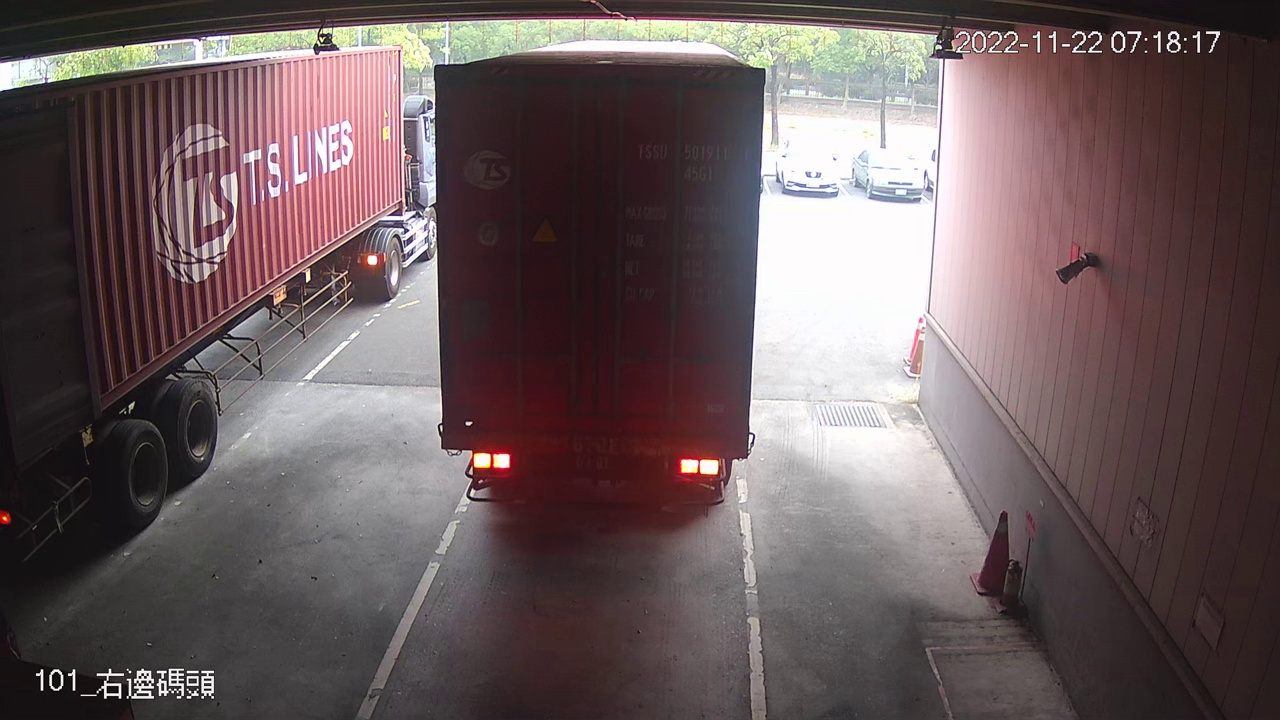container: (629, 137, 755, 185)
